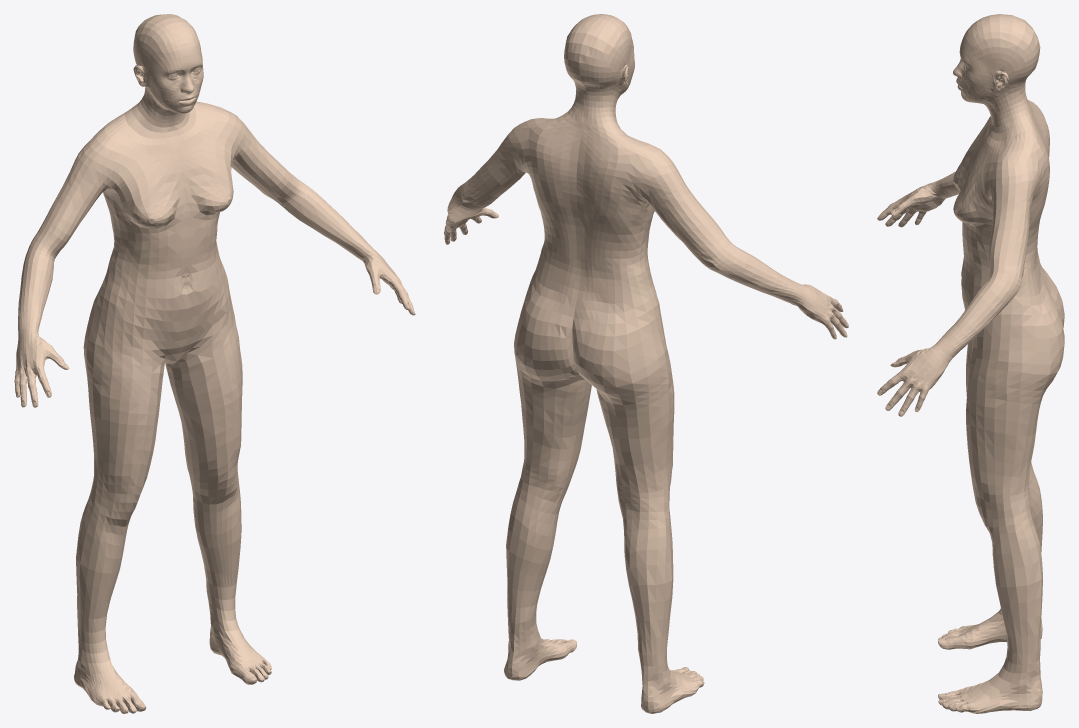
The model's file is female-mature-heavy-medium.glb.
3 views of the same model, side by side, from view 1: azimuth 30°, elevation 25°; view 2: azimuth 150°, elevation 25°; view 3: azimuth 270°, elevation 25° (orthographic).
Parts seen in each view (by area): view 1: world; view 2: world; view 3: world.
Boxes of the visible parts, box(x1,y1,x2,y2) form: world: box(14, 14, 415, 713); world: box(444, 14, 848, 713); world: box(877, 14, 1064, 713).
Size of the model in its own units: 1.12 by 1.81 by 0.4674.
